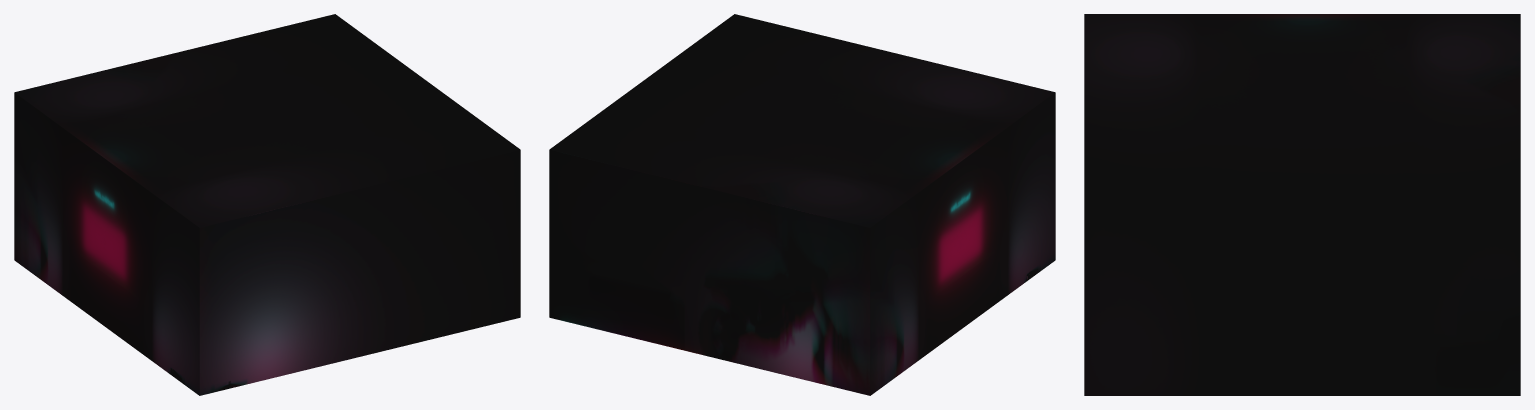
Rendered from room.glb.
The picture shows the model from 3 angles, left to right: view 1: azimuth 30°, elevation 25°; view 2: azimuth 150°, elevation 25°; view 3: azimuth 270°, elevation 25°; orthographic projection. The views are drawn at different scales.
Visible parts, largest first — view 1: Ceiling, Wall4, Wall1; view 2: Ceiling, Wall2, Wall1; view 3: Wall3, Ceiling.
Boxes of the visible parts, <box> form: Ceiling: <box>15,14,519,227</box>; Wall4: <box>199,149,520,395</box>; Wall1: <box>14,92,199,395</box>; Ceiling: <box>550,14,1054,227</box>; Wall2: <box>549,149,870,395</box>; Wall1: <box>870,92,1055,395</box>; Wall3: <box>1084,198,1520,395</box>; Ceiling: <box>1084,14,1520,198</box>.
Bounding box in the file's own units: 16.04 × 8.06 × 16.
Materials: 22 (20 with a texture image).
